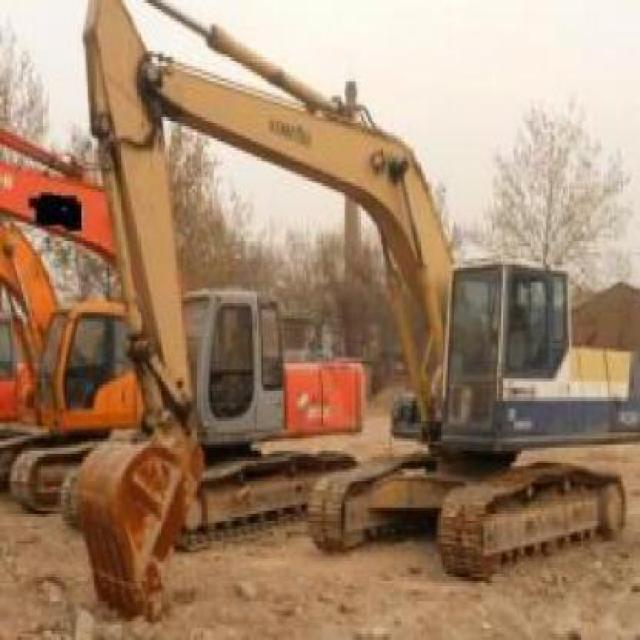excavator: (61, 0, 627, 625), (0, 96, 362, 553)
